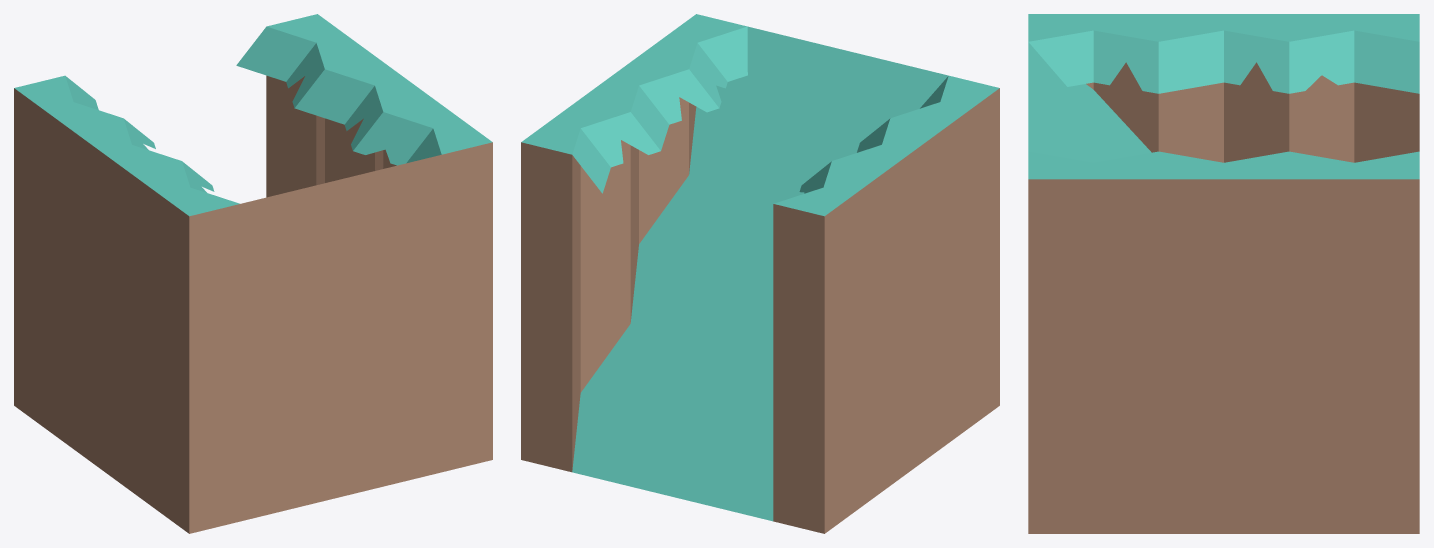
Rendered from cliff_blockSlopeWalls_rock.glb.
3 renders of one model, left to right at view 1: azimuth 30°, elevation 25°; view 2: azimuth 150°, elevation 25°; view 3: azimuth 270°, elevation 25°, orthographic. The views are drawn at different scales.
Visible parts, largest first — view 1: cliff_blockSlopeWalls_rock; view 2: cliff_blockSlopeWalls_rock; view 3: cliff_blockSlopeWalls_rock.
Part boxes in pixels (bbox=[...]): cliff_blockSlopeWalls_rock: bbox=[14, 14, 492, 533]; cliff_blockSlopeWalls_rock: bbox=[521, 14, 999, 533]; cliff_blockSlopeWalls_rock: bbox=[1028, 14, 1419, 533].
Bounding box in the file's own units: 1 × 1 × 1.
